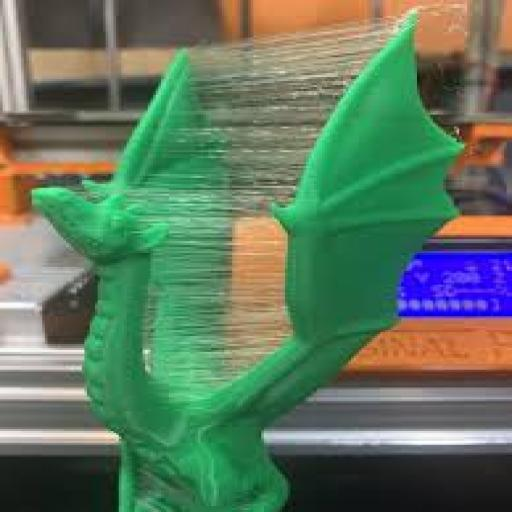stringing: (128, 136, 301, 372), (178, 29, 370, 124)
